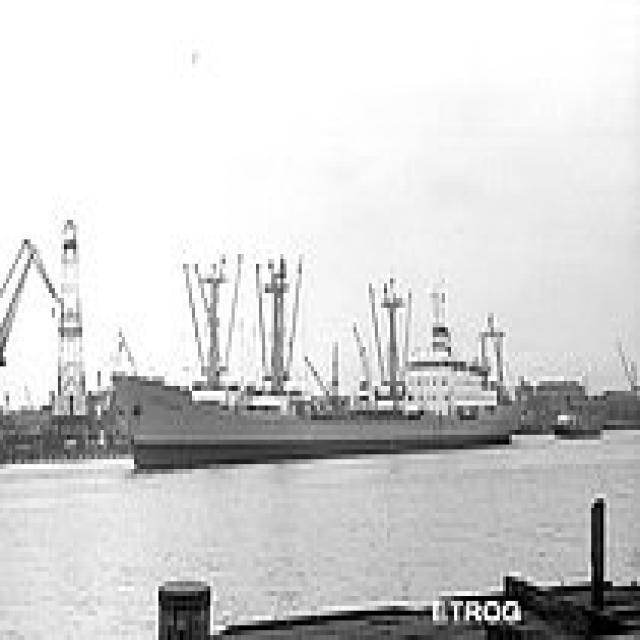Ship: (99, 250, 535, 475)
